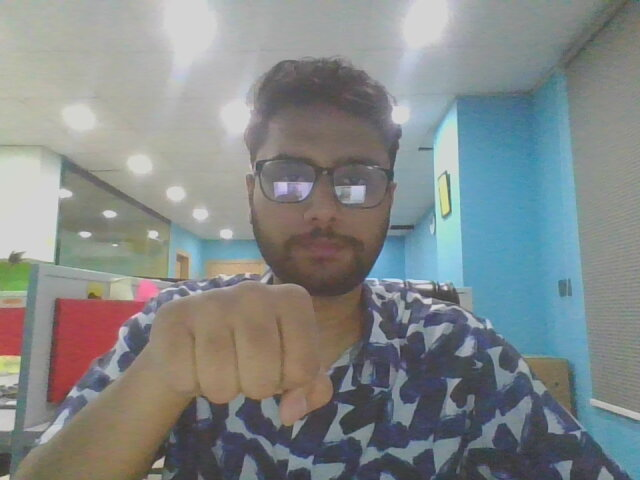yes: (142, 264, 358, 440)
